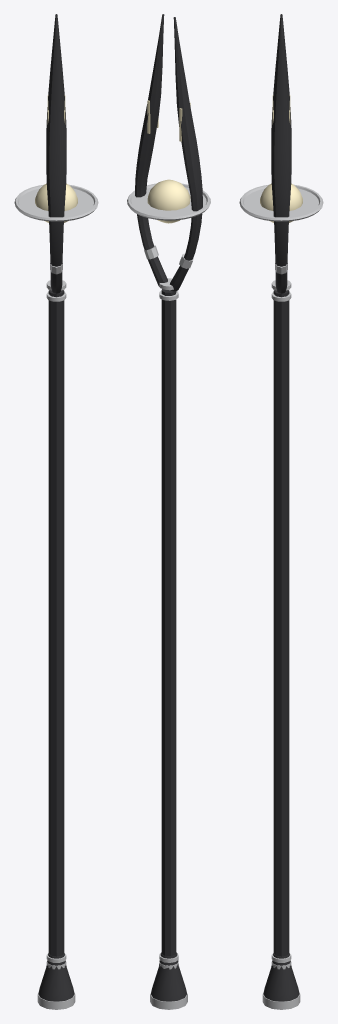
File: staff_orb.gltf
The picture shows the model from 3 angles, left to right: view 1: azimuth 90°, elevation 25°; view 2: azimuth 150°, elevation 25°; view 3: azimuth 270°, elevation 25°; orthographic projection.
Visible parts, largest first — view 1: Body, Ring, Orb; view 2: Body, Ring, Orb; view 3: Body, Ring, Orb.
Boxes of the visible parts, x1,y1,x2,y2 form: Body: (37,14,75,1009); Ring: (14,184,98,221); Orb: (35,183,77,222); Body: (135,14,202,1009); Ring: (127,183,210,220); Orb: (147,179,190,223); Body: (262,14,300,1009); Ring: (239,184,323,221); Orb: (260,183,302,222).
Bounding box in the file's own units: 0.1644 × 2.13 × 0.1644.
